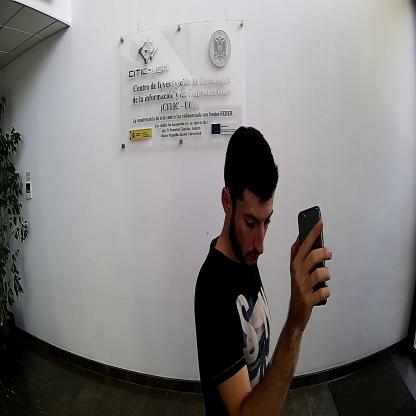smartphone: (297, 204, 328, 306)
